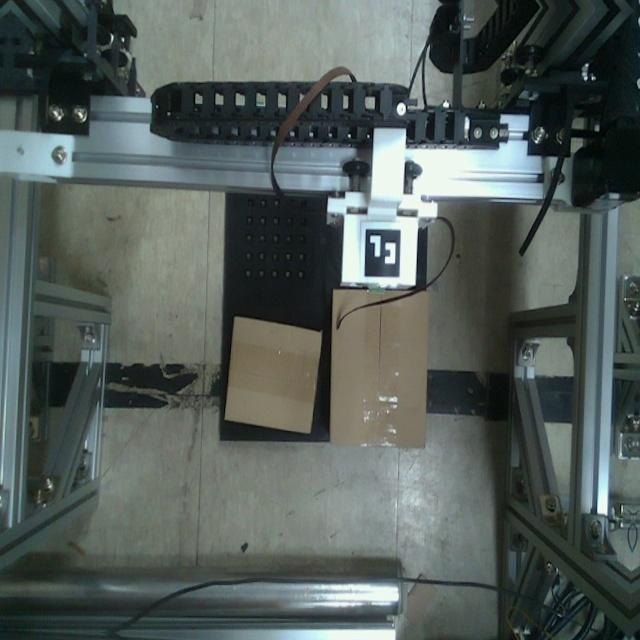box: (322, 285, 437, 454), (217, 310, 328, 440)
